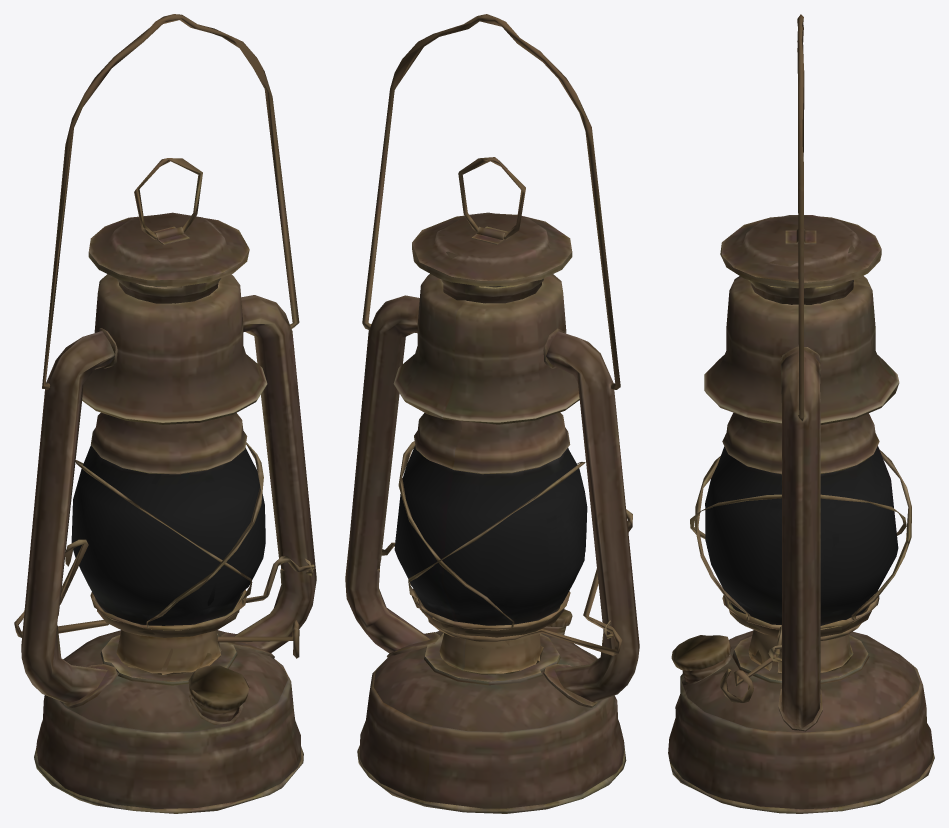
The model's file is lantern.glb.
3 renders of one model, left to right at view 1: azimuth 30°, elevation 25°; view 2: azimuth 150°, elevation 25°; view 3: azimuth 270°, elevation 25°, orthographic.
Visible parts, largest first — view 1: Lantern_01, Lantern_01_glass; view 2: Lantern_01, Lantern_01_glass; view 3: Lantern_01, Lantern_01_glass.
Part boxes in pixels (left/top/right/bottom): Lantern_01: left=14, top=14, right=316, bottom=813; Lantern_01_glass: left=71, top=445, right=265, bottom=625; Lantern_01: left=345, top=14, right=639, bottom=813; Lantern_01_glass: left=394, top=445, right=587, bottom=625; Lantern_01: left=668, top=14, right=934, bottom=813; Lantern_01_glass: left=705, top=446, right=898, bottom=625.
Size of the model in its own units: 0.1219 by 0.2939 by 0.096.
Materials: 2 (2 with a texture image).
